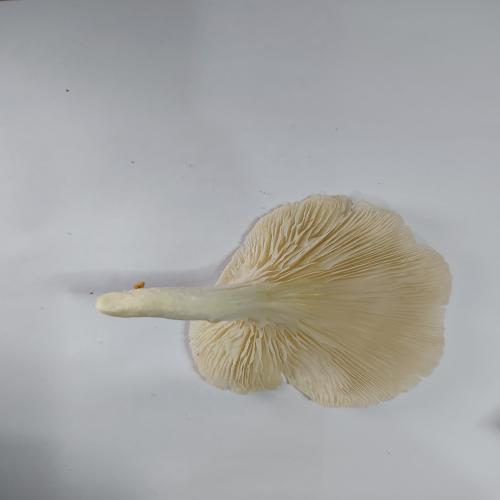Oyster Mushroom: (94, 193, 453, 409)
